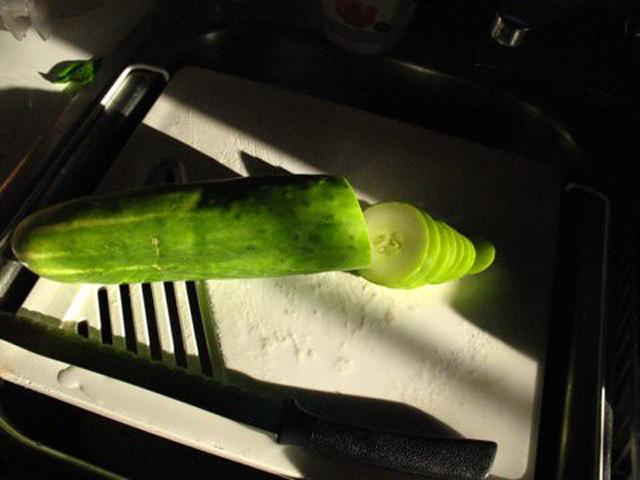cucumber: (11, 175, 373, 284)
